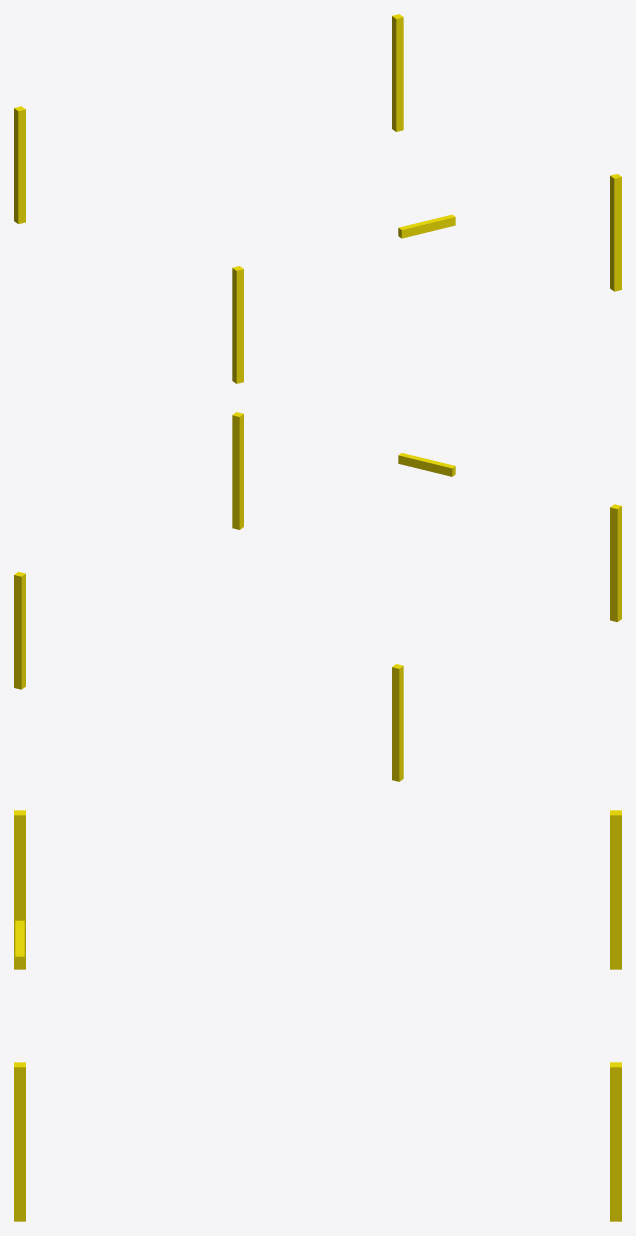
Rendered from accent-skin-1.glb.
The picture shows the model from 3 angles, top to bottom: view 1: azimuth 30°, elevation 25°; view 2: azimuth 150°, elevation 25°; view 3: azimuth 270°, elevation 25°; orthographic projection. The views are drawn at different scales.
Visible parts, largest first — view 1: accent-skin-1; view 2: accent-skin-1; view 3: accent-skin-1.
Boxes of the visible parts, left/top/right/bottom form: accent-skin-1: left=14, top=14, right=621, bottom=383; accent-skin-1: left=14, top=412, right=621, bottom=781; accent-skin-1: left=14, top=810, right=621, bottom=1221.
Size of the model in its own units: 14.28 by 4 by 14.28.
1 material, 1 textured.
